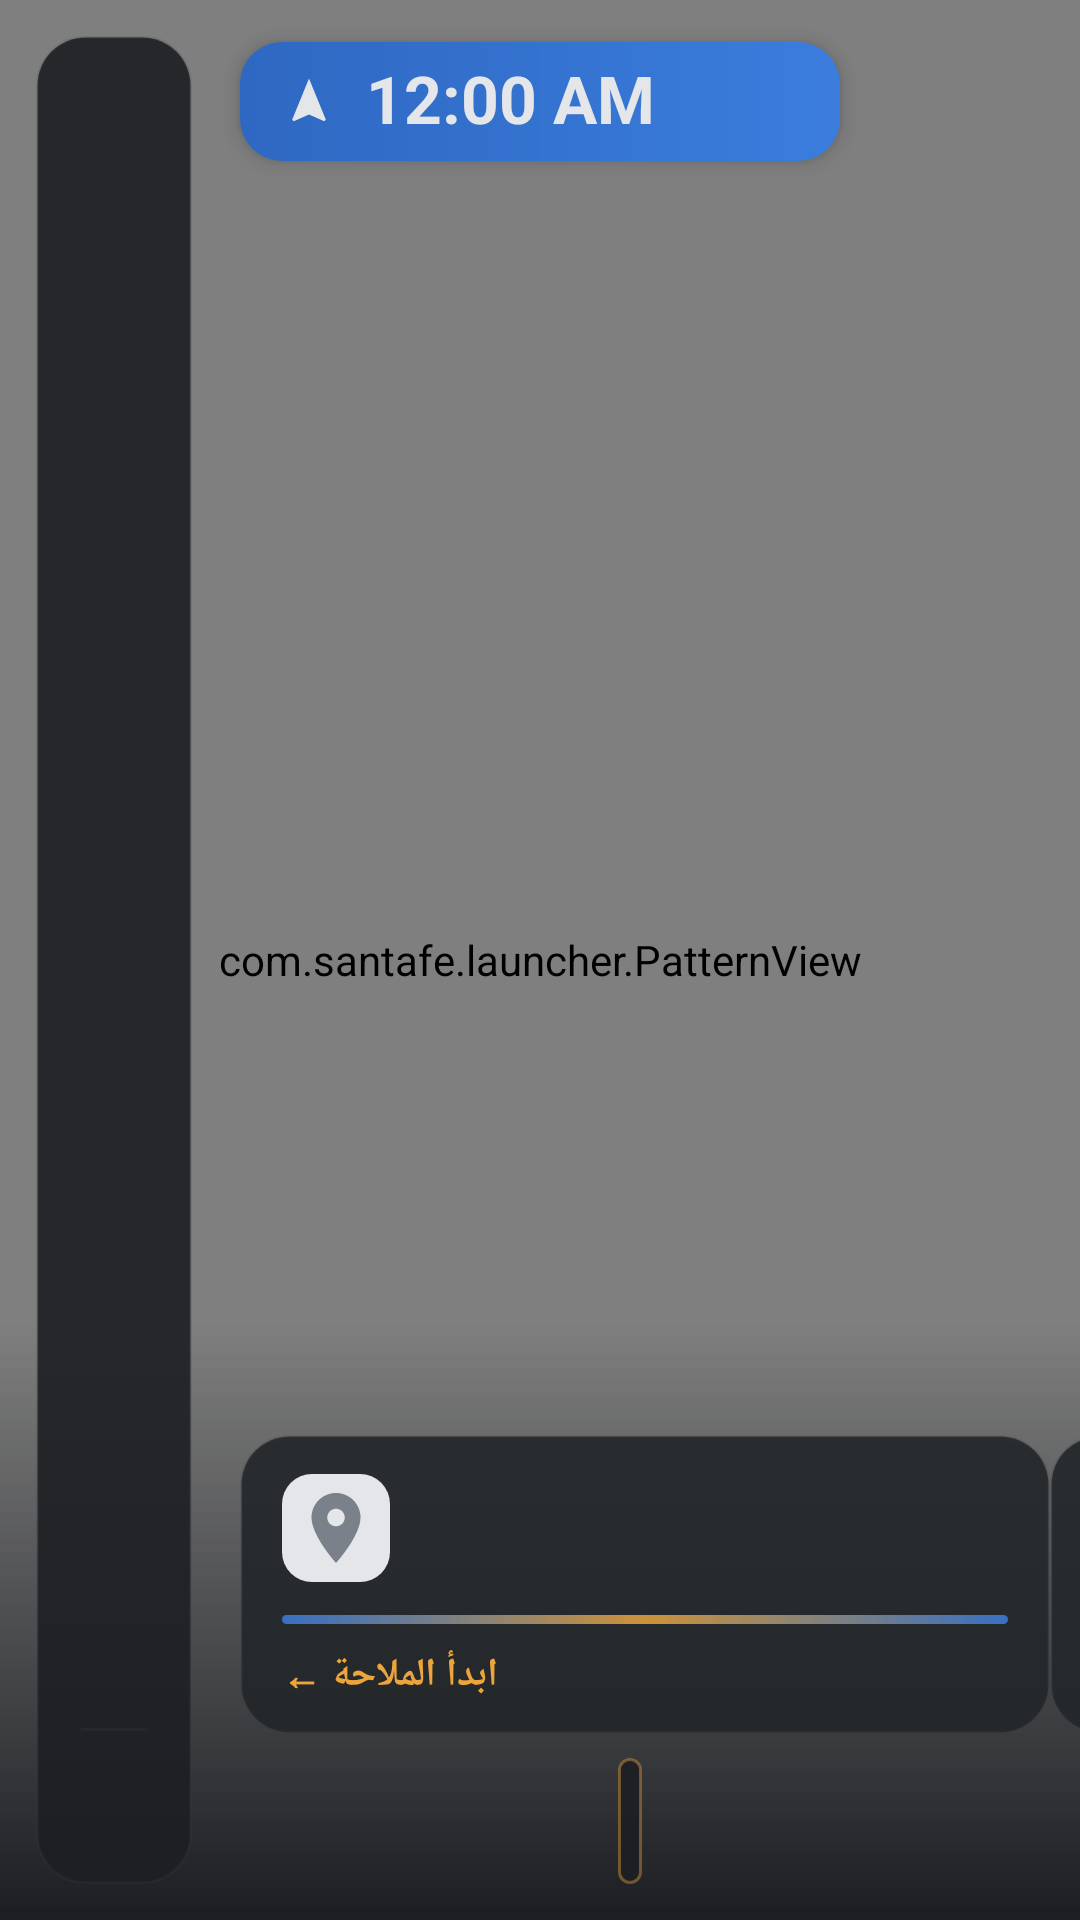

Where to tap for icons on this 1080px×1920px app screen, as [x,y]:
nav: [309,100]
